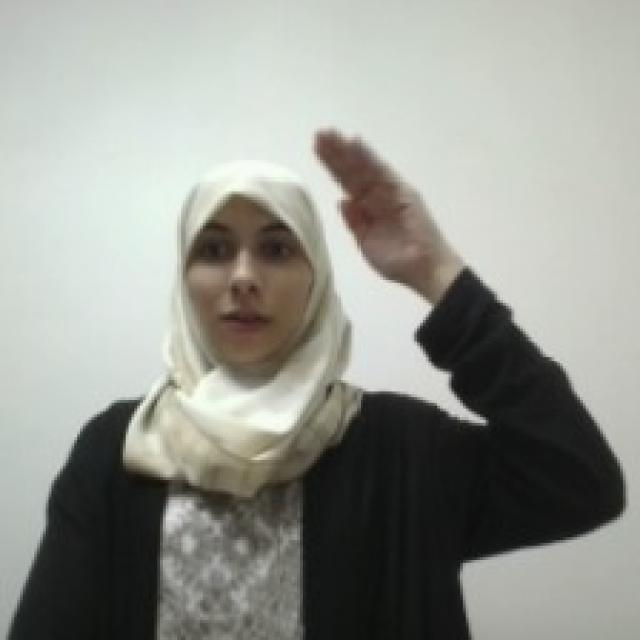Thanks: (310, 119, 440, 282)
